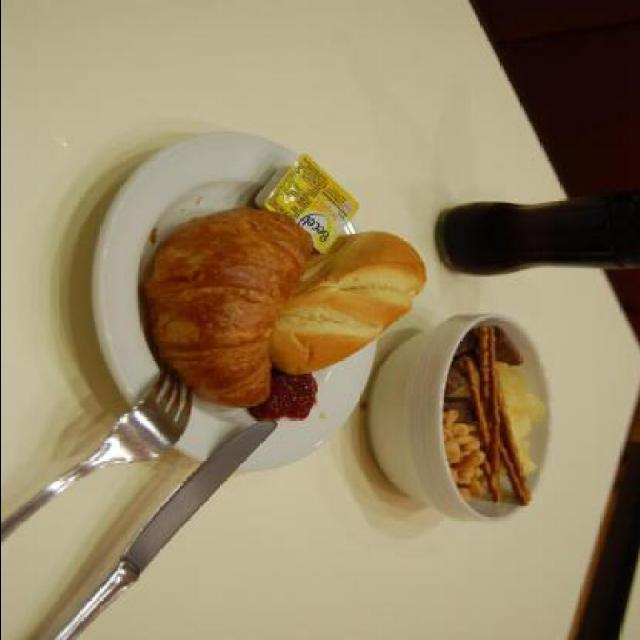Croissant: (138, 206, 318, 408)
